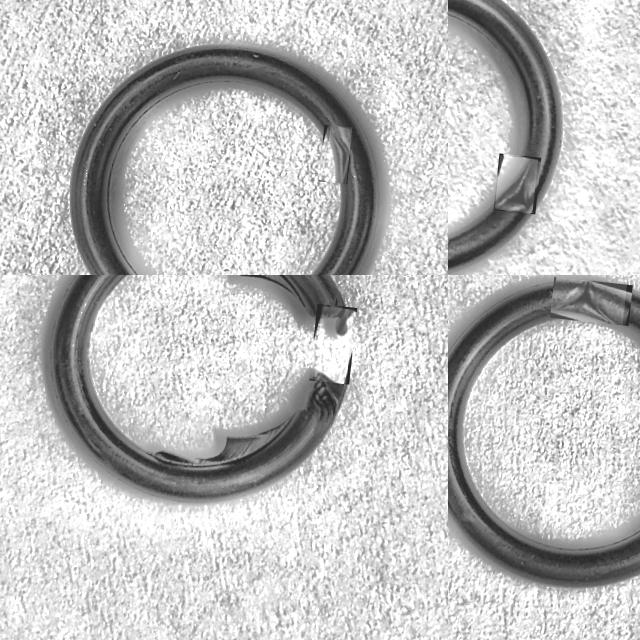切割缺陷: (551, 279, 622, 325), (300, 375, 346, 426), (494, 159, 532, 212), (329, 125, 349, 183)
挤压缺陷: (315, 309, 352, 383)
裂纹: (143, 413, 295, 465), (239, 275, 304, 306)
